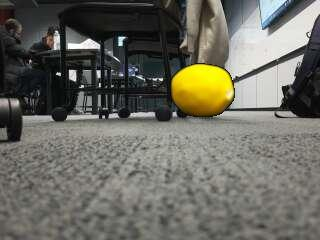lemon: (172, 64, 234, 116)
